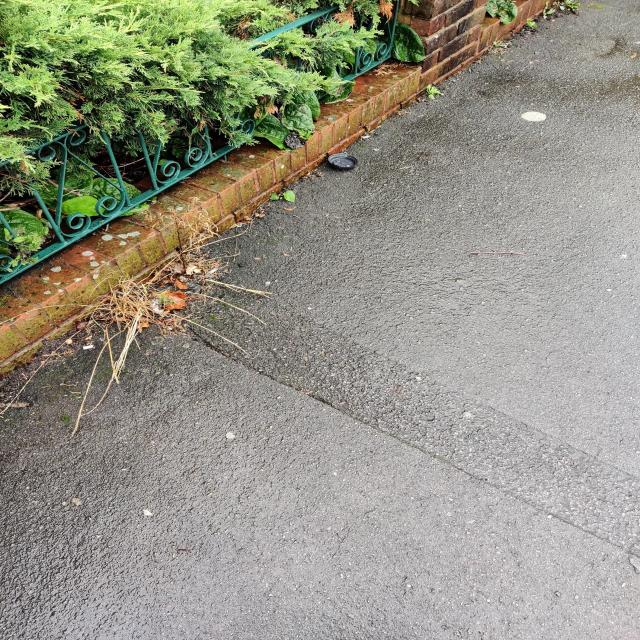litter: (315, 141, 371, 184)
